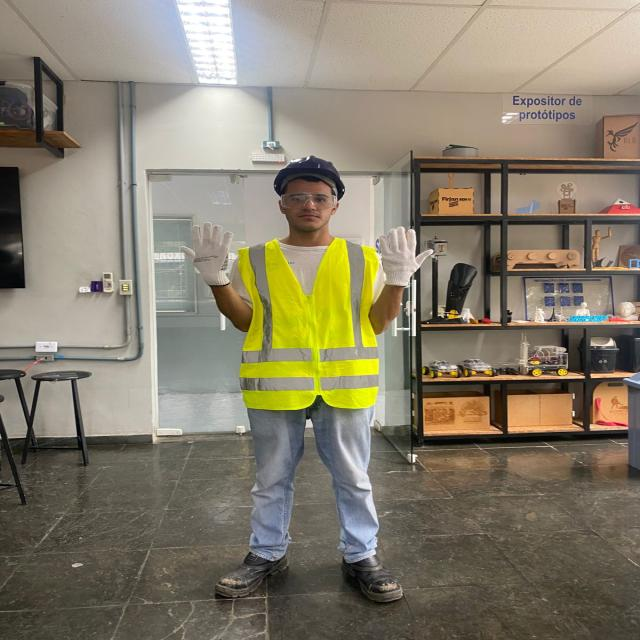BOTA: (337, 533, 410, 606), (216, 546, 296, 601)
CAPACETE: (266, 151, 350, 200)
COLETE: (232, 234, 386, 414)
LUVA: (373, 227, 440, 289), (181, 219, 237, 288)
OCULOS: (276, 193, 342, 210)
